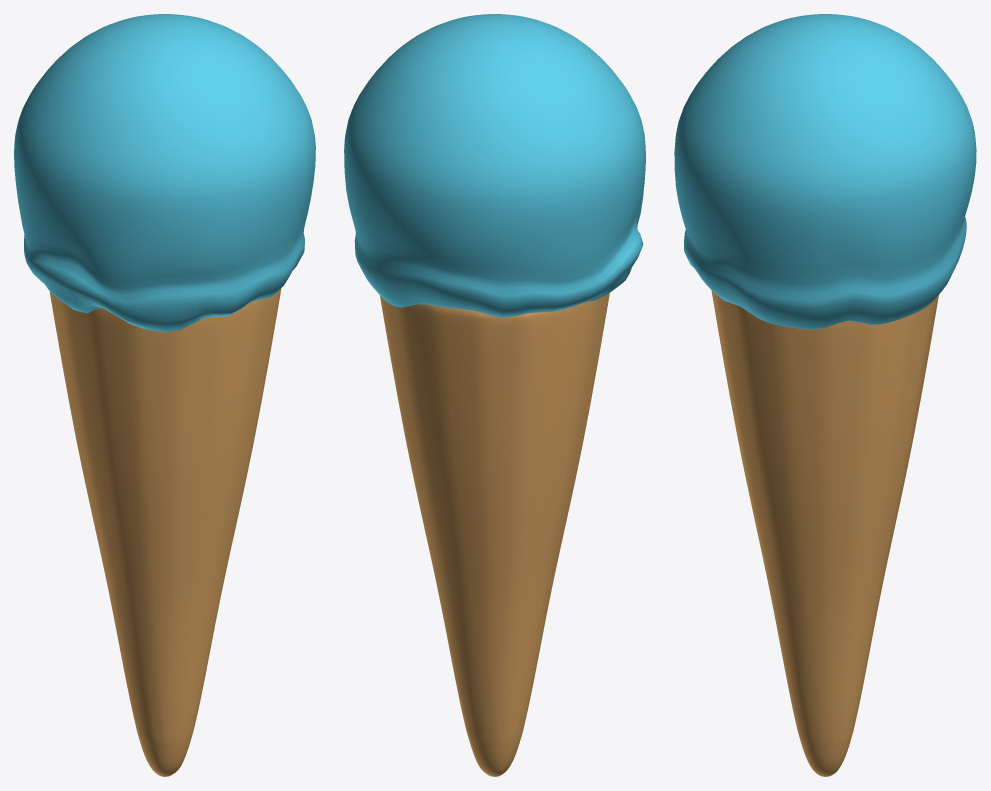
The model's file is IceCream_Blueberry.fbx.
The picture shows the model from 3 angles, left to right: view 1: azimuth 30°, elevation 25°; view 2: azimuth 150°, elevation 25°; view 3: azimuth 270°, elevation 25°; orthographic projection.
Parts seen in each view (by area): view 1: IceCream_Blueberry; view 2: IceCream_Blueberry; view 3: IceCream_Blueberry.
Boxes of the visible parts, x1,y1,x2,y2 form: IceCream_Blueberry: (14,14,315,776); IceCream_Blueberry: (344,14,645,776); IceCream_Blueberry: (674,14,976,776).
Size of the model in its own units: 464 by 1269 by 464.
